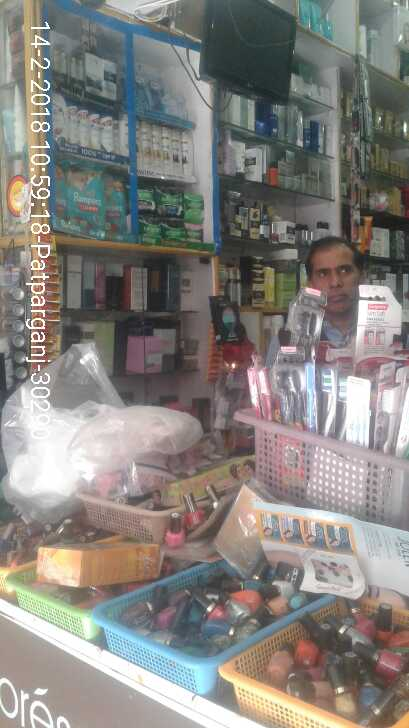venus: (149, 68, 168, 114), (135, 68, 149, 107), (167, 96, 189, 115)
